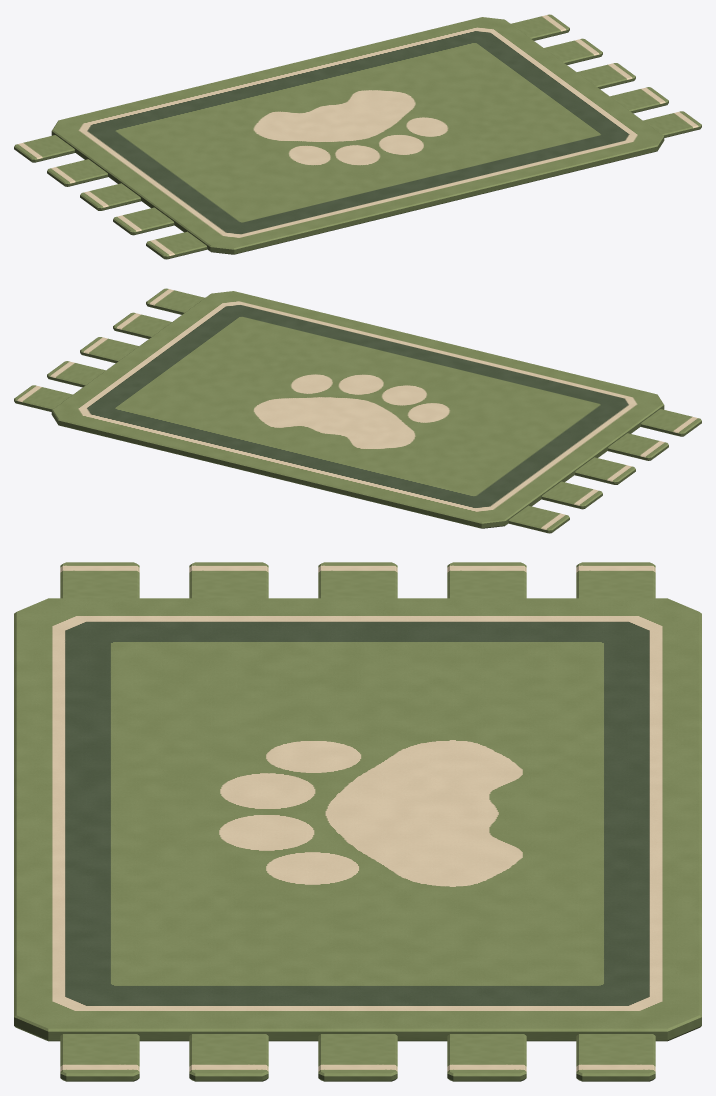
Rendered from 02_PawRug.fbx.
The picture shows the model from 3 angles, top to bottom: view 1: azimuth 30°, elevation 25°; view 2: azimuth 150°, elevation 25°; view 3: azimuth 270°, elevation 25°; orthographic projection. The views are drawn at different scales.
Parts seen in each view (by area): view 1: LP_PawRug; view 2: LP_PawRug; view 3: LP_PawRug.
Part boxes in pixels (x1,y1,x2,y2): LP_PawRug: (14,14,701,259); LP_PawRug: (14,288,701,533); LP_PawRug: (14,562,701,1081).
Size of the model in its own units: 706 by 8 by 400.
Materials: 1 (1 with a texture image).
